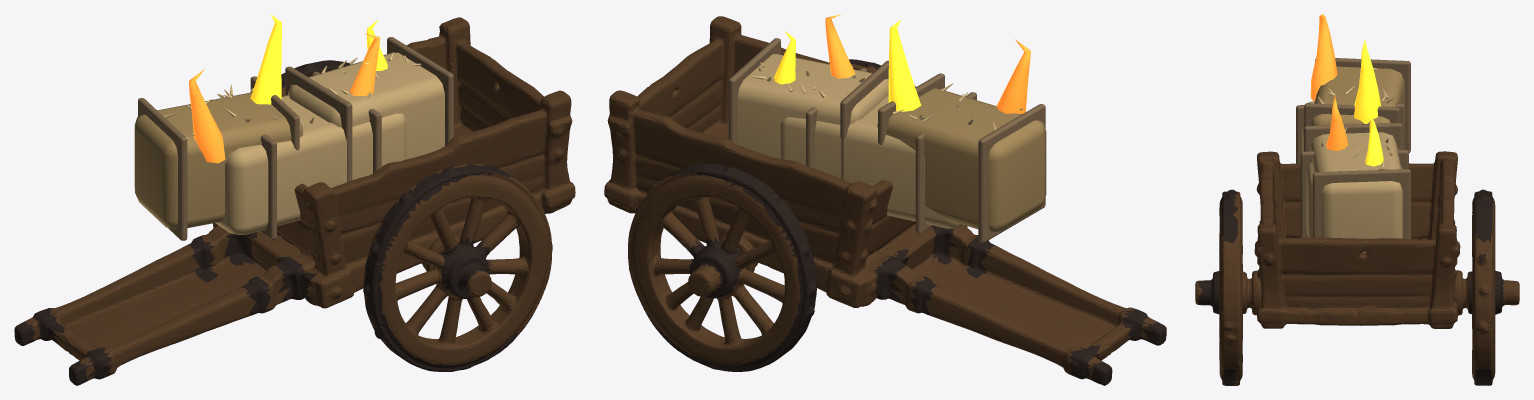
The model's file is carroca_feno_feno_fogo.glb.
3 renders of one model, left to right at view 1: azimuth 30°, elevation 25°; view 2: azimuth 150°, elevation 25°; view 3: azimuth 270°, elevation 25°, orthographic. The views are drawn at different scales.
Parts seen in each view (by area): view 1: Carroça original | tmp7zfbmskp.ply, Fardo central, Fardo traseiro, Fardo frontal, Fardo traseiro | amarra, Fogo no feno 1, Fogo no feno 2, Fardo frontal | amarra, Fardo frontal | amarra.001, Fardo central | amarra, Fogo no feno 3, Fardo traseiro | amarra.001 (+1 smaller); view 2: Carroça original | tmp7zfbmskp.ply, Fardo traseiro, Fardo central, Fardo frontal, Fardo traseiro | amarra, Fogo no feno 2, Fardo frontal | amarra.001, Fogo no feno 1, Fardo frontal | amarra, Fardo central | amarra, Fogo no feno 3, Fardo traseiro | amarra.001 (+2 smaller); view 3: Carroça original | tmp7zfbmskp.ply, Fardo frontal, Fardo traseiro, Fardo frontal | amarra.001, Fogo no feno 2, Fogo no feno 1, Fardo traseiro | amarra, Fardo frontal | amarra, Fardo traseiro | amarra.001, Fardo central | amarra.001, Fogo no feno 3, Fardo central | amarra (+2 smaller).
Part boxes in pixels (x1=…): Carroça original | tmp7zfbmskp.ply: x1=14, y1=17, x2=575, y2=385; Fardo central: x1=215, y1=95, x2=406, y2=234; Fardo traseiro: x1=134, y1=92, x2=302, y2=229; Fardo frontal: x1=288, y1=52, x2=444, y2=159; Fardo traseiro | amarra: x1=138, y1=98, x2=187, y2=240; Fogo no feno 1: x1=189, y1=69, x2=225, y2=163; Fogo no feno 2: x1=250, y1=14, x2=281, y2=104; Fardo frontal | amarra: x1=285, y1=66, x2=352, y2=182; Fardo frontal | amarra.001: x1=387, y1=37, x2=453, y2=145; Fardo central | amarra: x1=210, y1=99, x2=276, y2=239; Fogo no feno 3: x1=349, y1=33, x2=380, y2=96; Fardo traseiro | amarra.001: x1=250, y1=76, x2=299, y2=219; Carroça original | tmp7zfbmskp.ply: x1=604, y1=16, x2=1166, y2=385; Fardo traseiro: x1=877, y1=88, x2=1046, y2=231; Fardo central: x1=780, y1=95, x2=963, y2=228; Fardo frontal: x1=737, y1=54, x2=888, y2=158; Fardo traseiro | amarra: x1=978, y1=104, x2=1045, y2=242; Fogo no feno 2: x1=888, y1=20, x2=921, y2=111; Fardo frontal | amarra.001: x1=728, y1=38, x2=780, y2=144; Fogo no feno 1: x1=996, y1=39, x2=1030, y2=113; Fardo frontal | amarra: x1=840, y1=60, x2=888, y2=179; Fardo central | amarra: x1=915, y1=92, x2=976, y2=234; Fogo no feno 3: x1=825, y1=14, x2=855, y2=78; Fardo traseiro | amarra.001: x1=878, y1=73, x2=944, y2=144; Carroça original | tmp7zfbmskp.ply: x1=1195, y1=151, x2=1519, y2=385; Fardo frontal: x1=1310, y1=132, x2=1402, y2=252; Fardo traseiro: x1=1311, y1=66, x2=1404, y2=138; Fardo frontal | amarra.001: x1=1312, y1=169, x2=1410, y2=238; Fogo no feno 2: x1=1354, y1=40, x2=1381, y2=123; Fogo no feno 1: x1=1310, y1=14, x2=1337, y2=100; Fardo traseiro | amarra: x1=1315, y1=58, x2=1410, y2=152; Fardo frontal | amarra: x1=1304, y1=123, x2=1402, y2=151; Fardo traseiro | amarra.001: x1=1304, y1=103, x2=1399, y2=126; Fardo central | amarra.001: x1=1300, y1=149, x2=1408, y2=237; Fogo no feno 3: x1=1326, y1=95, x2=1348, y2=151; Fardo central | amarra: x1=1296, y1=103, x2=1404, y2=163.
Size of the model in its own units: 1.96 by 1.29 by 1.3.
